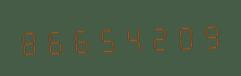eight: (17, 23, 42, 58)
five: (95, 20, 120, 55)
four: (121, 19, 146, 55)
nine: (199, 17, 224, 52)
six: (43, 22, 68, 57), (69, 21, 94, 56)
two: (147, 19, 172, 54)
zero: (173, 18, 198, 53)
